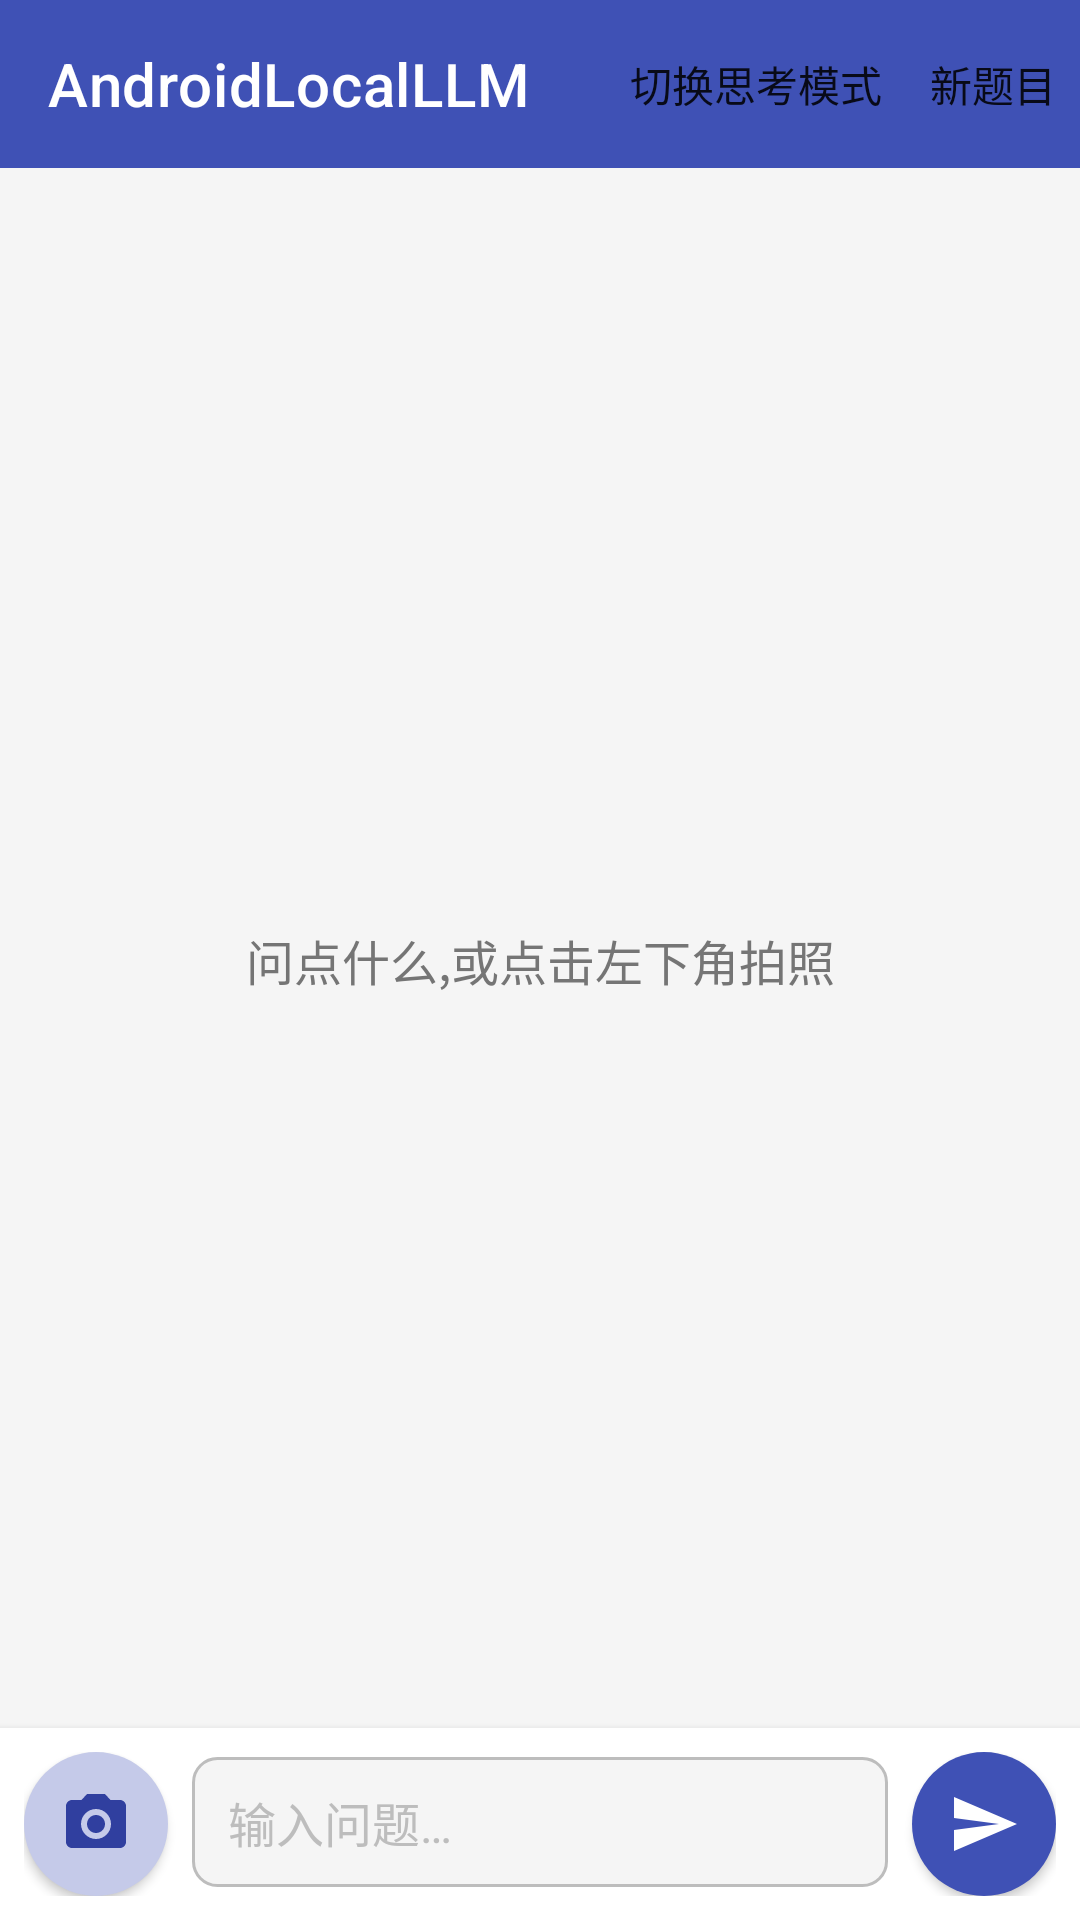

Named icons in this screenshot (1080 × 1920) and their bounding boxes, (x1, y1, x2, y2):
camera: (24, 1752, 168, 1896)
send: (912, 1752, 1056, 1896)
